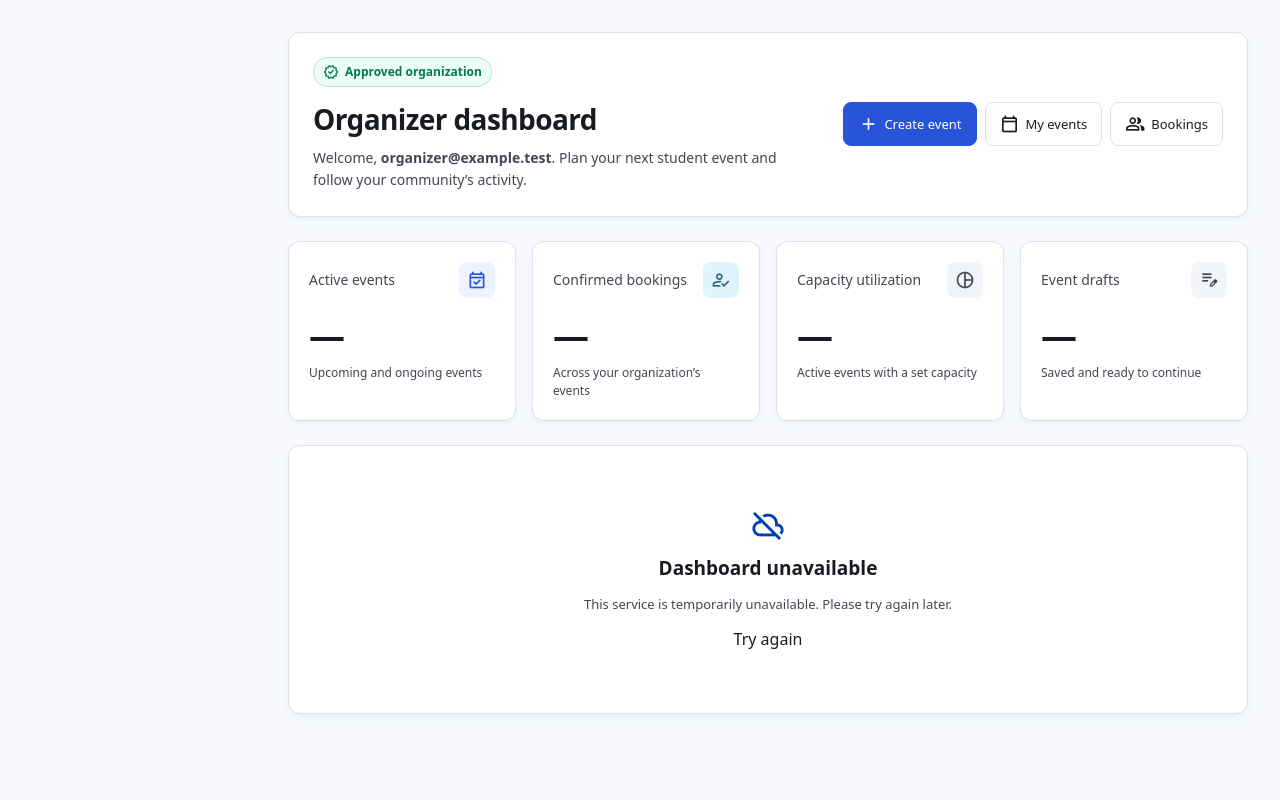
Test: organizer dashboard › offers retry after a request failure and loads the new snapshot
expect the message "This service is temporarily unavailable. Please try again later." is shown: met, box [584,594,952,615]
Click the button "Try again": click(768, 639) [734,627,802,651]
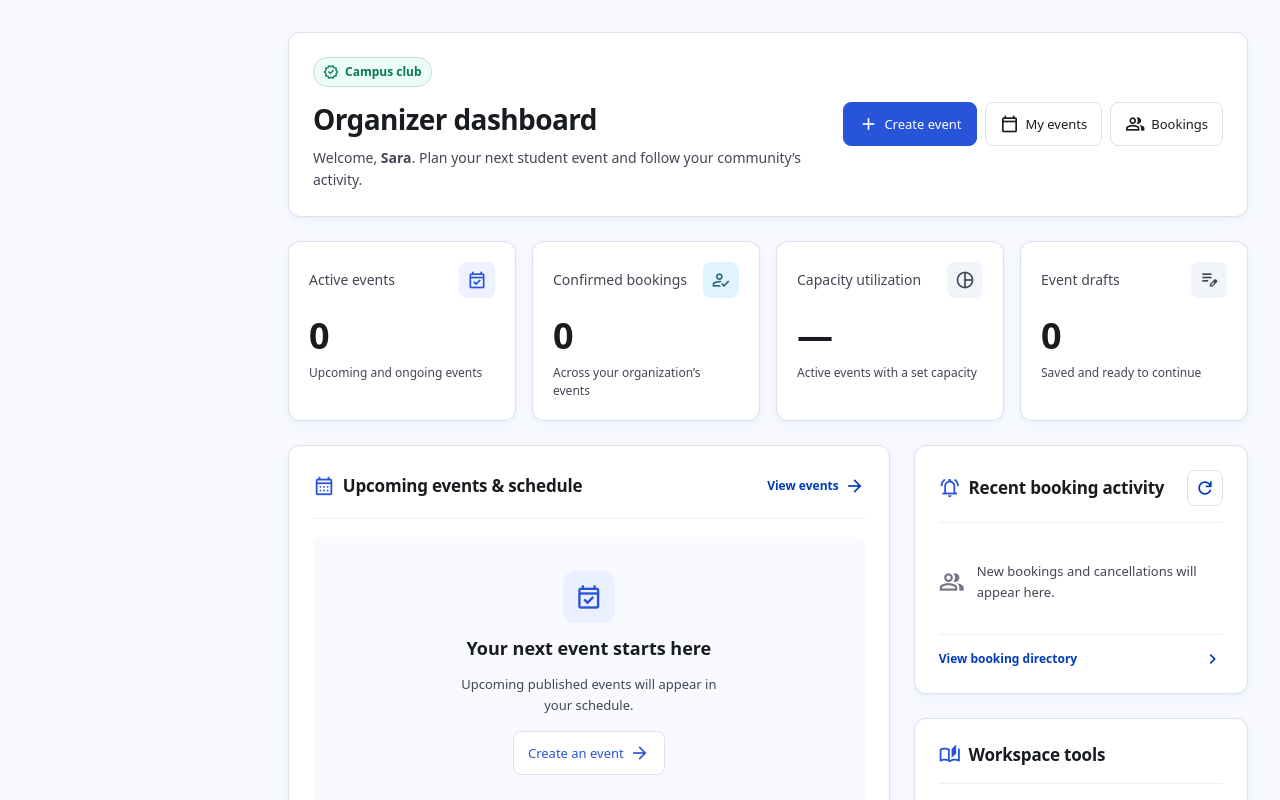
expect the text "Campus club" is shown: met, box [313,57,432,87]
